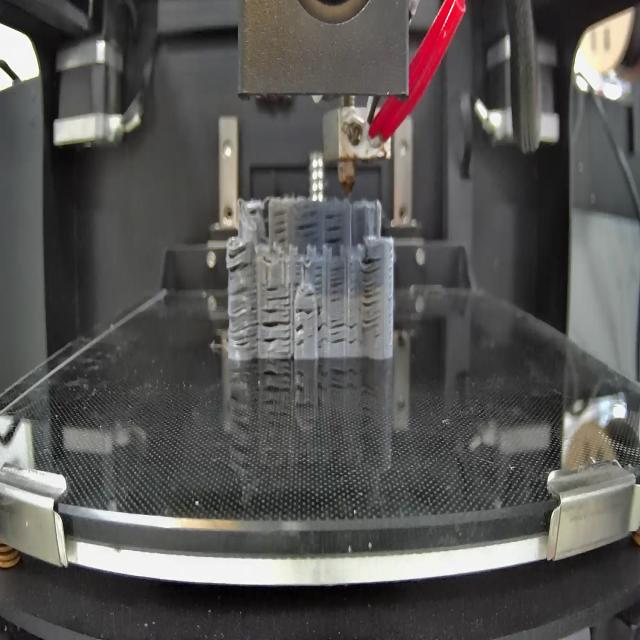cracks: (229, 286, 259, 348), (360, 254, 383, 334), (263, 306, 290, 351), (318, 320, 360, 347), (295, 209, 320, 244), (228, 244, 254, 274), (326, 210, 346, 246), (274, 204, 290, 246), (331, 262, 344, 305), (266, 284, 290, 306), (312, 258, 324, 291), (296, 305, 325, 318), (291, 263, 304, 290), (296, 322, 307, 349), (249, 208, 262, 220), (302, 290, 315, 300)
